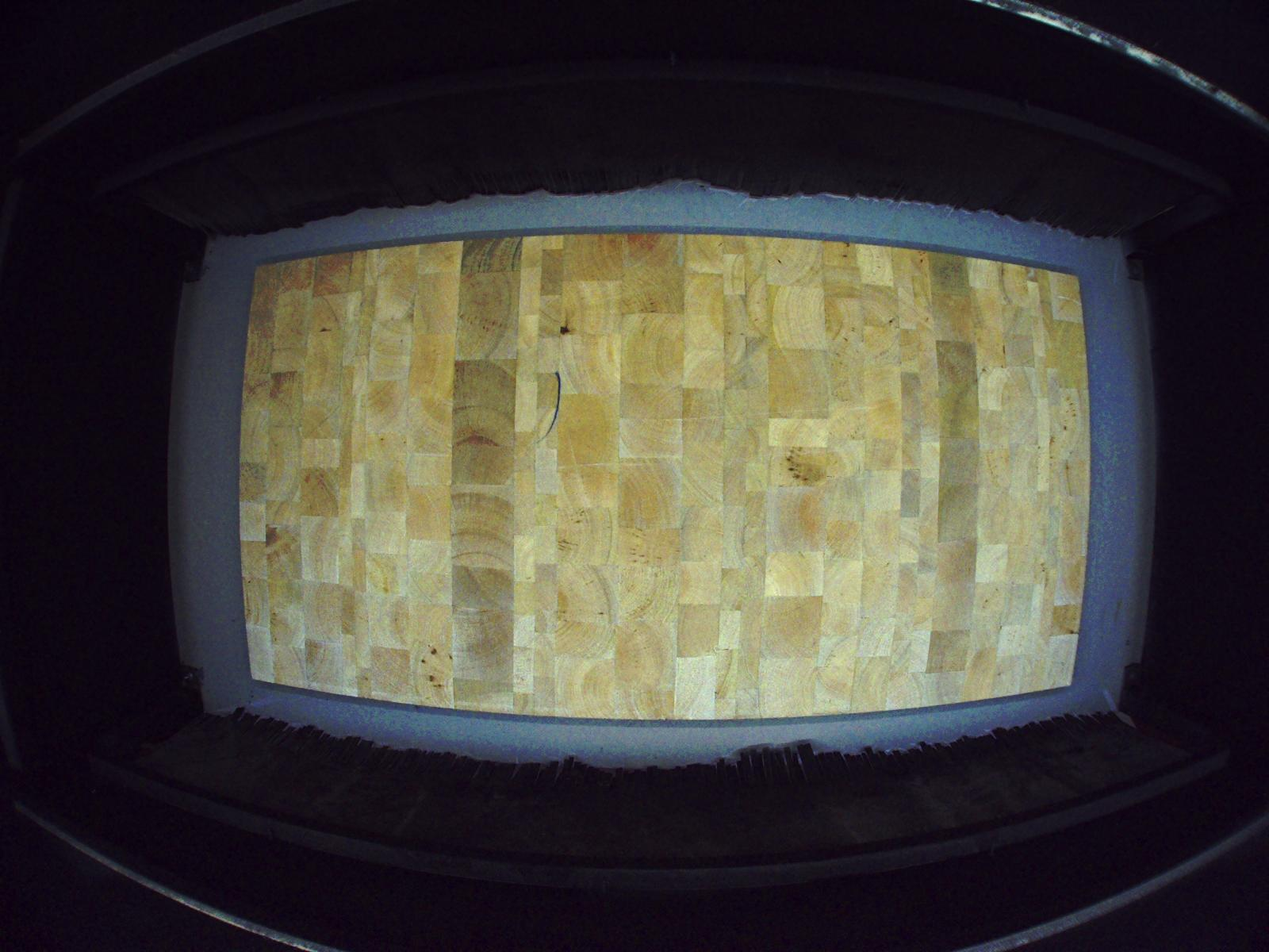nudillo: (560, 323, 572, 338)
